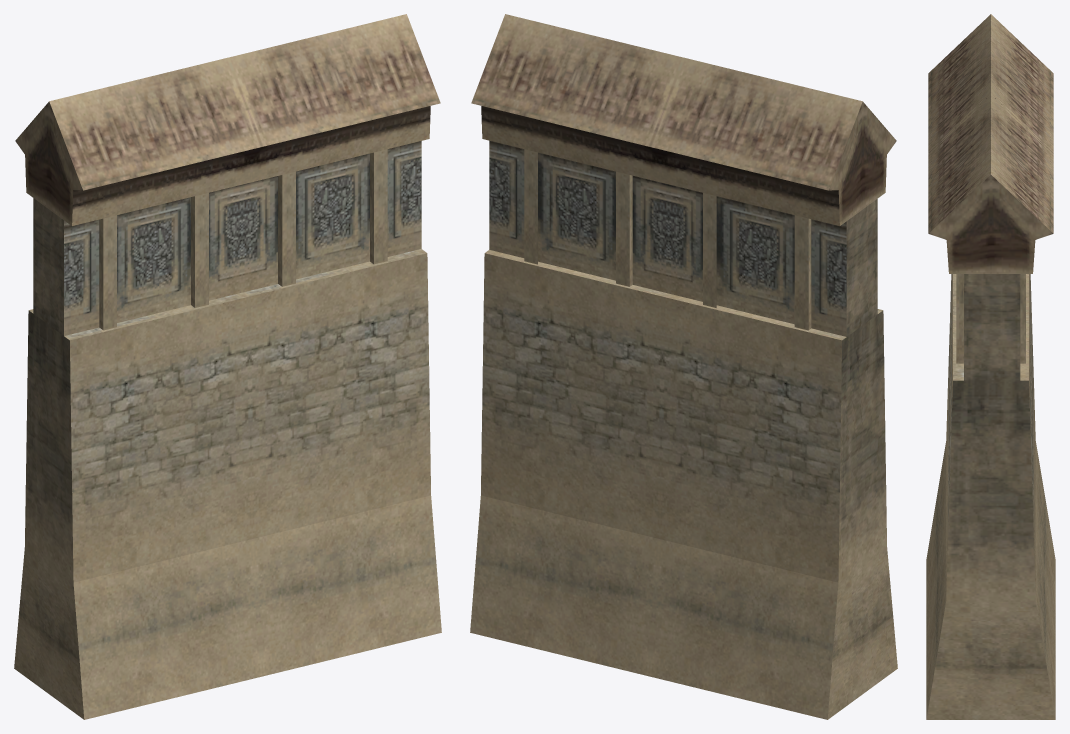
The model's file is desert-middledam-03_lod_01.fbx.
The picture shows the model from 3 angles, left to right: view 1: azimuth 30°, elevation 25°; view 2: azimuth 150°, elevation 25°; view 3: azimuth 270°, elevation 25°; orthographic projection. The views are drawn at different scales.
Parts seen in each view (by area): view 1: desert-middledam-02; view 2: desert-middledam-02; view 3: desert-middledam-02.
Boxes of the visible parts, bbox=[...] form: desert-middledam-02: bbox=[14, 14, 441, 719]; desert-middledam-02: bbox=[470, 14, 897, 719]; desert-middledam-02: bbox=[926, 14, 1055, 719].
Size of the model in its own units: 5 by 7.92 by 1.7.
